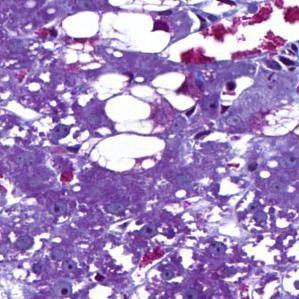ballooning: (90, 72, 169, 135), (88, 133, 169, 176)
